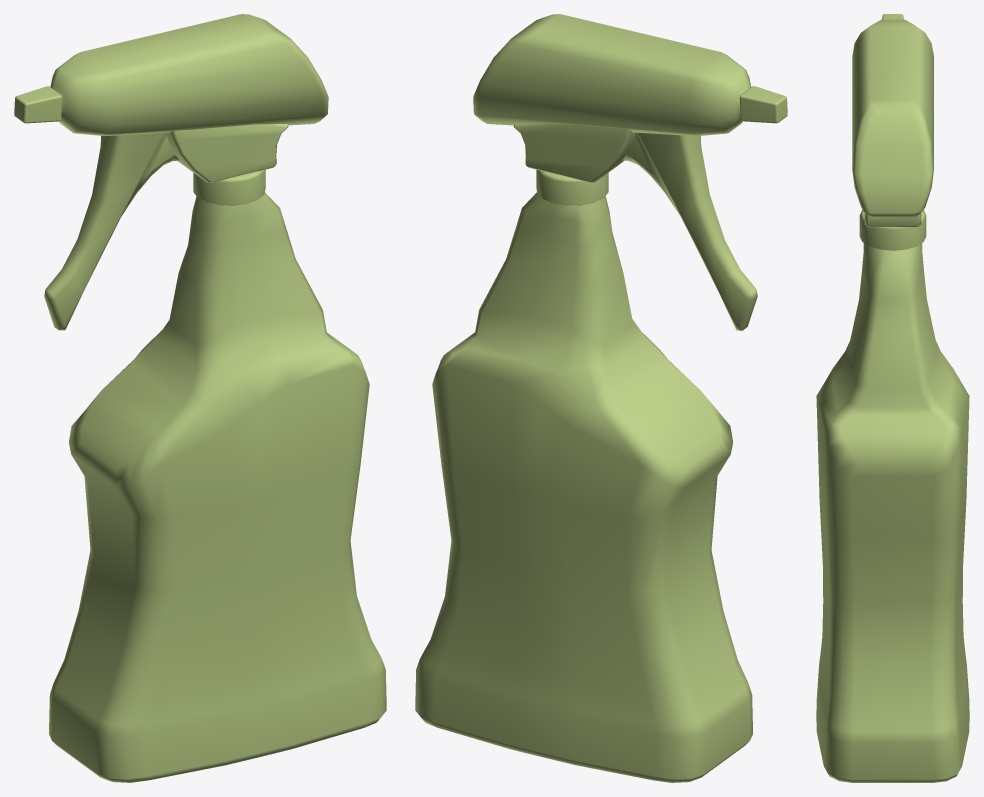
Rendered from stain remover spray bottle.fbx.
3 views of the same model, side by side, from view 1: azimuth 30°, elevation 25°; view 2: azimuth 150°, elevation 25°; view 3: azimuth 270°, elevation 25° (orthographic). The views are drawn at different scales.
Parts seen in each view (by area): view 1: botle; view 2: botle; view 3: botle.
Part boxes in pixels (left/top/right/bottom): botle: left=14, top=14, right=386, bottom=782; botle: left=415, top=14, right=787, bottom=782; botle: left=816, top=14, right=969, bottom=782.
Size of the model in its own units: 0.1634 by 0.3193 by 0.0692.
